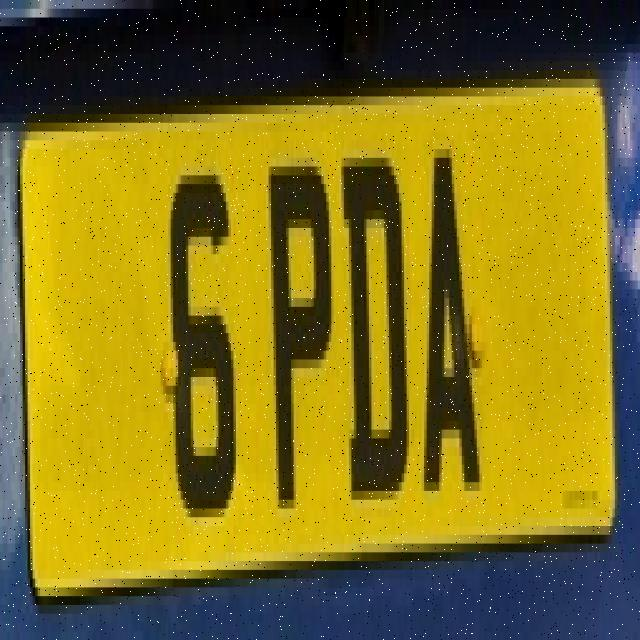licenseplate: (9, 54, 618, 612)
